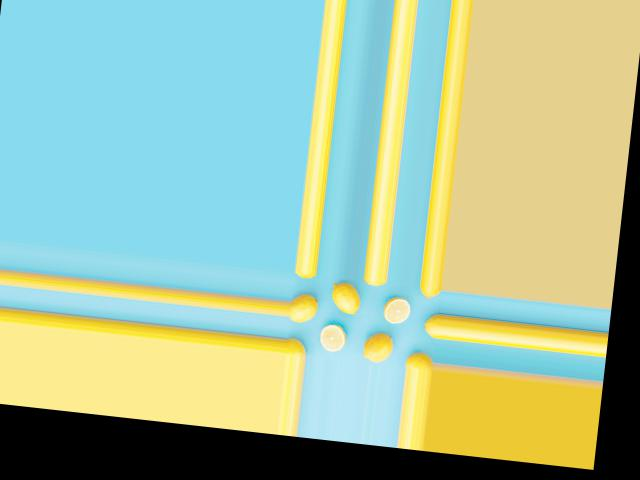lemon: (283, 334, 310, 356)
